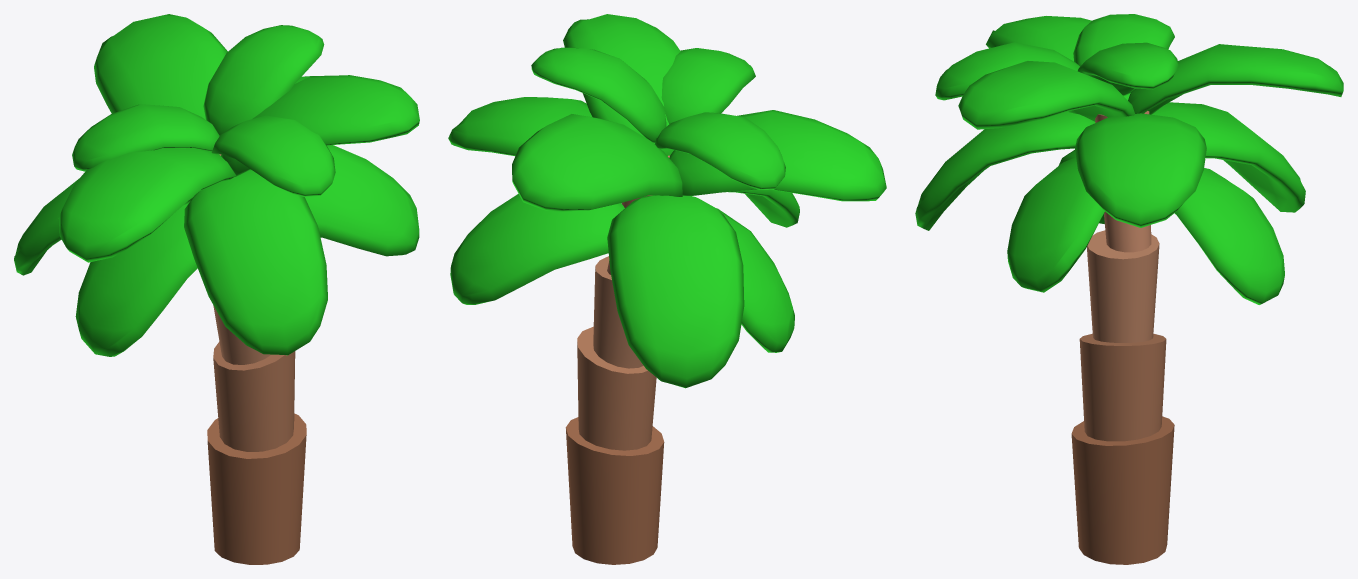
The model's file is Palm.fbx.
The picture shows the model from 3 angles, left to right: view 1: azimuth 30°, elevation 25°; view 2: azimuth 150°, elevation 25°; view 3: azimuth 270°, elevation 25°; orthographic projection. The views are drawn at different scales.
Visible parts, largest first — view 1: palm:Palm; view 2: palm:Palm; view 3: palm:Palm.
Boxes of the visible parts, x1,y1,x2,y2 form: palm:Palm: (14,14,419,564); palm:Palm: (448,14,886,564); palm:Palm: (915,14,1343,564).
Bounding box in the file's own units: 19.82 × 24.61 × 18.7.
